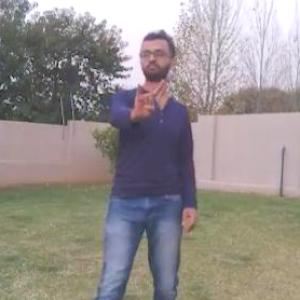takeoff-hand: (126, 69, 168, 118)
